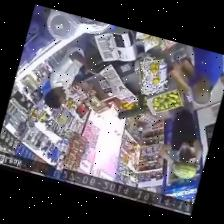person: (45, 33, 92, 108), (160, 94, 203, 167), (176, 47, 223, 103)
